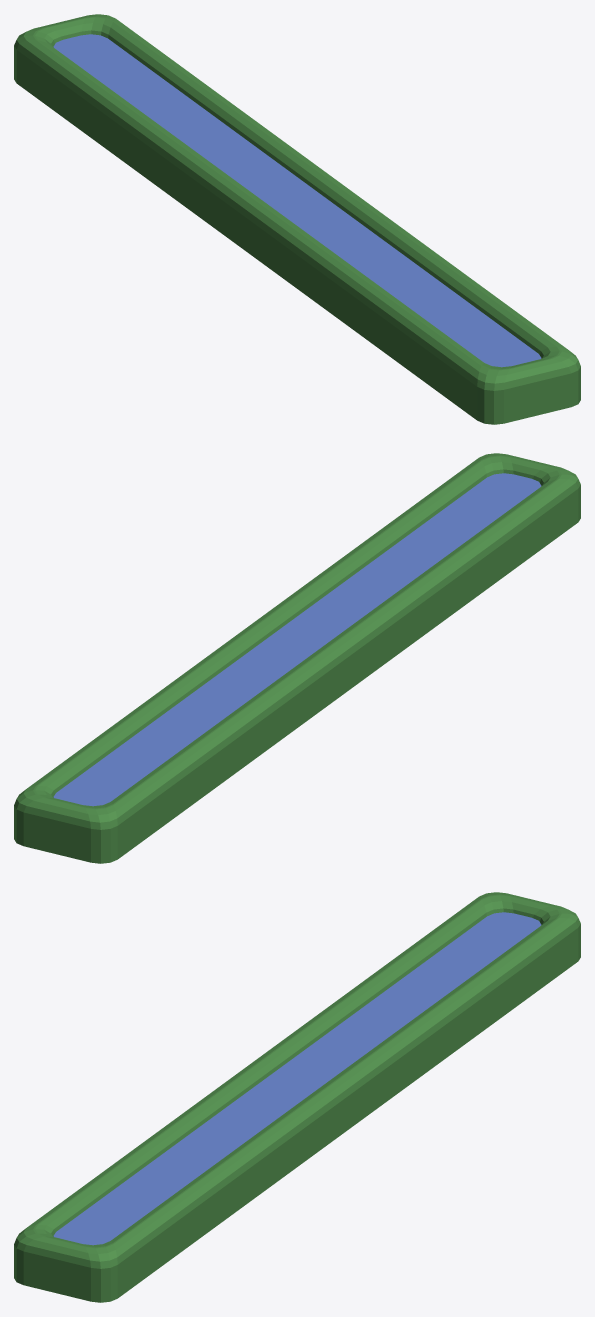
The model's file is relva 1.fbx.
The picture shows the model from 3 angles, top to bottom: view 1: azimuth 30°, elevation 25°; view 2: azimuth 150°, elevation 25°; view 3: azimuth 330°, elevation 25°; orthographic projection.
Parts seen in each view (by area): view 1: Cube.061; view 2: Cube.061; view 3: Cube.061.
Part boxes in pixels (left/top/right/bottom): Cube.061: left=14, top=14, right=580, bottom=424; Cube.061: left=14, top=453, right=580, bottom=863; Cube.061: left=14, top=892, right=580, bottom=1302.
Size of the model in its own units: 15.24 by 6.67 by 125.
